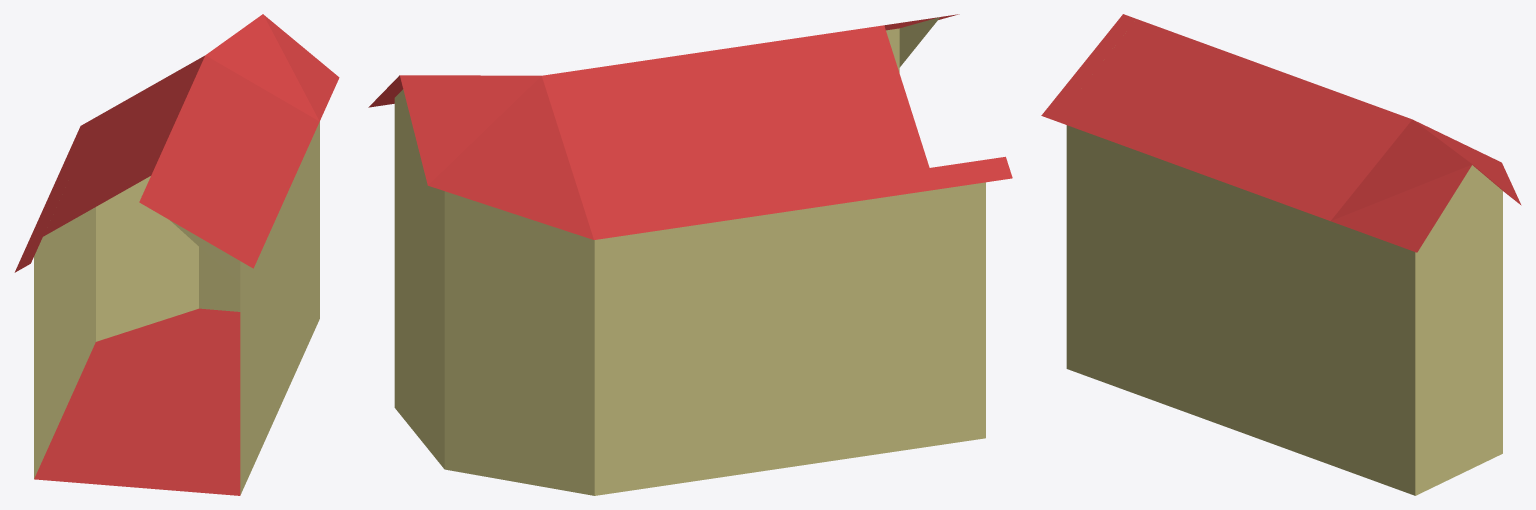
3 views of the same model, side by side, from view 1: azimuth 30°, elevation 25°; view 2: azimuth 150°, elevation 25°; view 3: azimuth 270°, elevation 25° (orthographic). The views are drawn at different scales.
Bounding box in the file's own units: 21.73 × 19.97 × 14.47.
